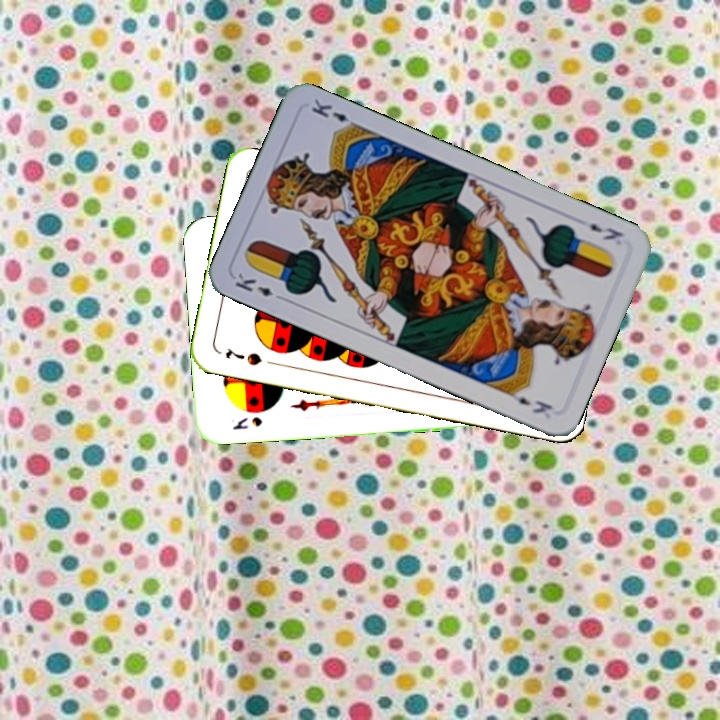EK: (231, 269, 288, 304), (585, 219, 626, 243)
S7: (221, 345, 265, 368)
SK: (229, 413, 265, 432)
